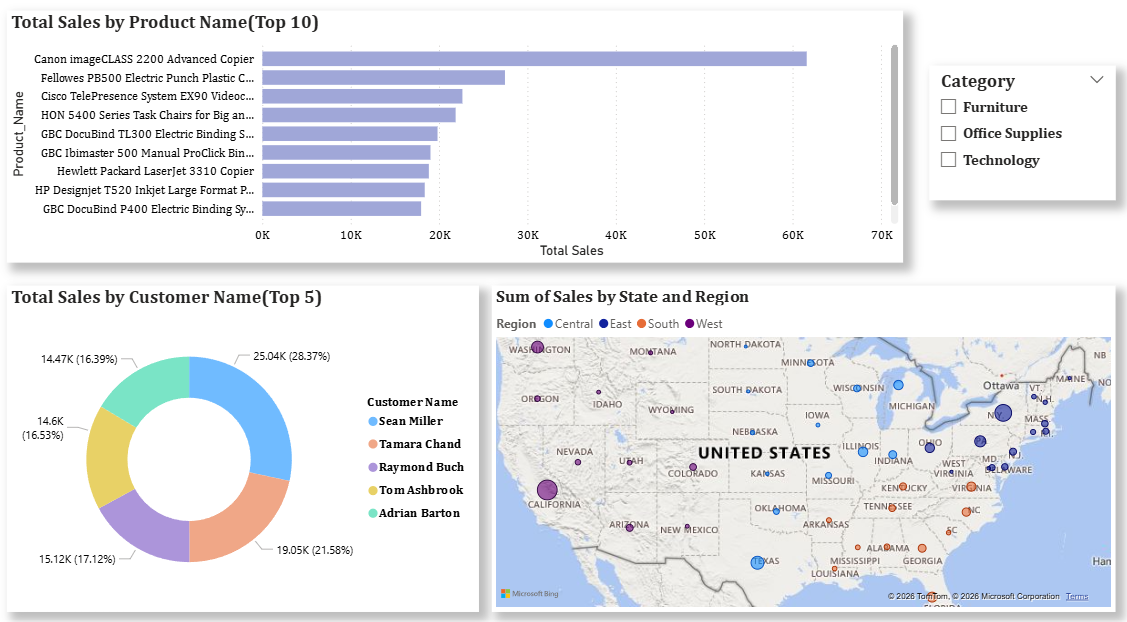

The dashboard page shown, as its layout file describes it:
{"tool":"powerbi","page":{"name":"Page 2","canvas":[1280,720],"ordinal":1},"visuals":[{"type":"clusteredBarChart","title":"Total Sales by Product Name(Top 10)","fields":{"Category":["sales_db sales.Product_Name"],"Y":["sales_db sales.Total Sales"]},"box":[26.1,24.7,983.9,277.2],"z":0},{"type":"donutChart","title":"Total Sales by Customer Name(Top 5)","fields":{"Category":["sales_db sales.Customer_Name"],"Y":["sales_db sales.Total Sales"]},"box":[26.1,326.6,518.7,358.1],"z":1000},{"type":"map","fields":{"Series":["sales_db sales.Region"],"Category":["sales_db sales.State"],"Size":["Sum(sales_db sales.Sales)"]},"box":[558,327,685,358],"z":2000},{"type":"slicer","fields":{"Values":["sales_db sales.Category"]},"box":[1038.8,85.1,204.5,148.2],"z":2001}]}

Visuals, with their boxes in screenshot pixels (x1, y1, x2, y2), scaled from the page's 1280x720 canvas onto the 1127x622 screenshot:
"Total Sales by Product Name(Top 10)" clusteredBarChart: <bbox>23, 21, 889, 261</bbox>
"Total Sales by Customer Name(Top 5)" donutChart: <bbox>23, 282, 480, 592</bbox>
map - sales_db sales.Region x sales_db sales.State: <bbox>491, 282, 1094, 592</bbox>
slicer - sales_db sales.Category: <bbox>915, 74, 1095, 202</bbox>
